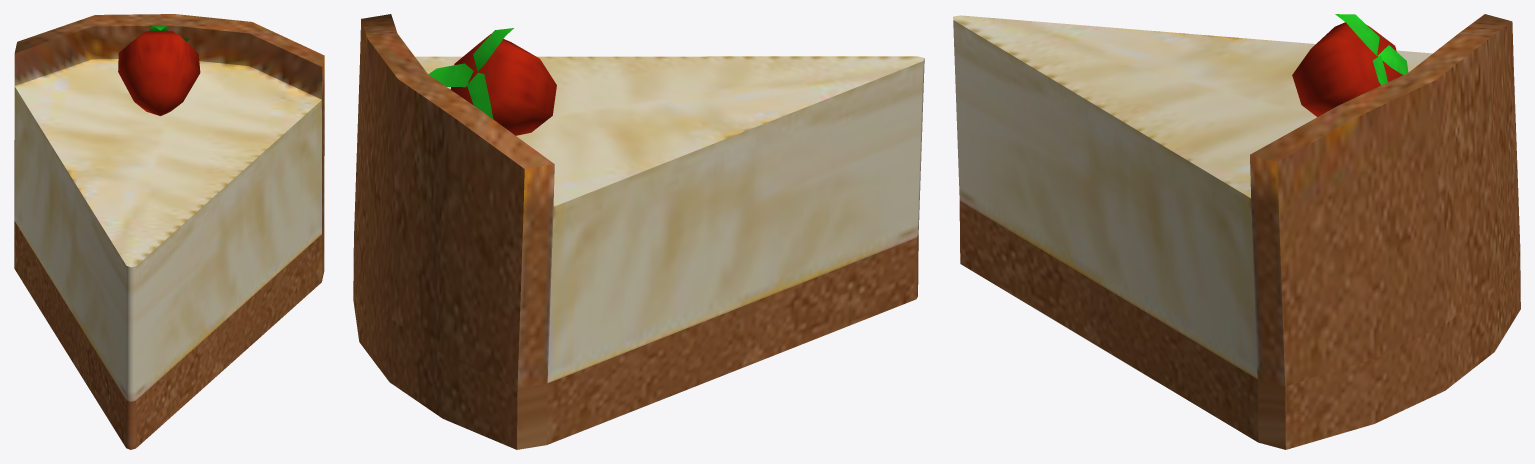
The model's file is H_SapphCheesecakeSlice.fbx.
The picture shows the model from 3 angles, left to right: view 1: azimuth 30°, elevation 25°; view 2: azimuth 150°, elevation 25°; view 3: azimuth 270°, elevation 25°; orthographic projection. The views are drawn at different scales.
Visible parts, largest first — view 1: CheesecakeSlice; view 2: CheesecakeSlice; view 3: CheesecakeSlice.
Part boxes in pixels (x1,y1,x2,y2): CheesecakeSlice: [14, 14, 324, 449]; CheesecakeSlice: [353, 14, 924, 449]; CheesecakeSlice: [953, 14, 1520, 449].
Size of the model in its own units: 15.18 by 12.28 by 17.69.
